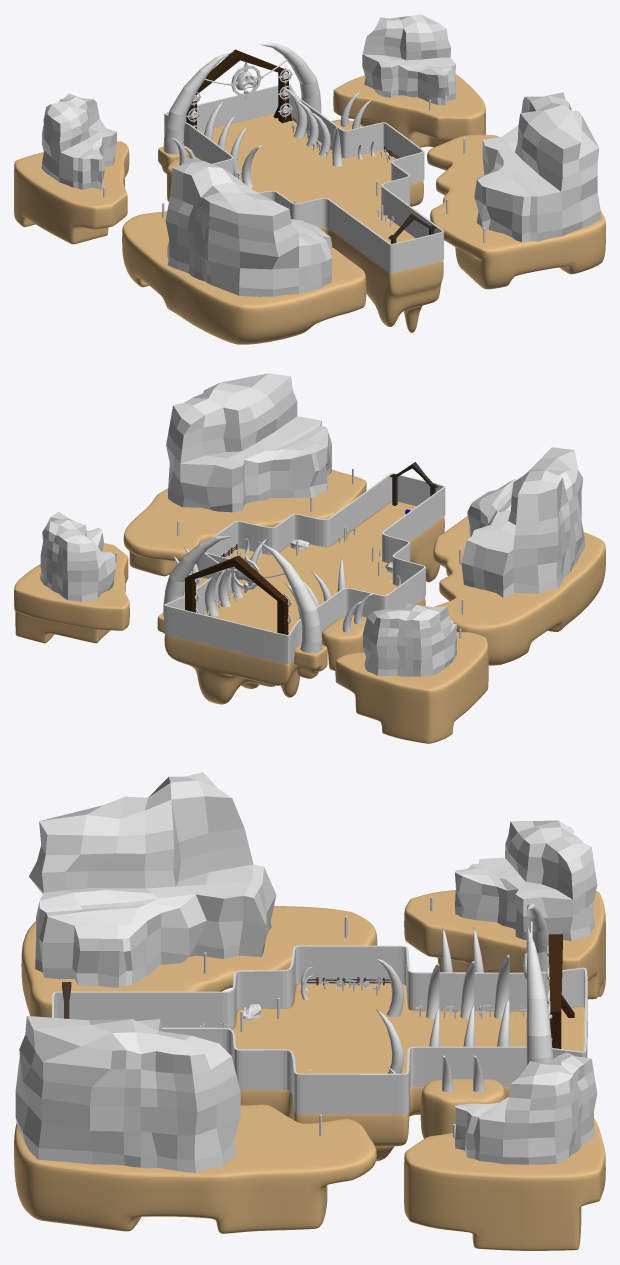
Rendered from Nivel4 Sala1.fbx.
3 views of the same model, one above another, from view 1: azimuth 30°, elevation 25°; view 2: azimuth 150°, elevation 25°; view 3: azimuth 270°, elevation 25° (orthographic). The views are drawn at different scales.
Parts seen in each view (by area): view 1: Roca.058, Base 4-1, Roca.059, Base 4-1.001, Cube.188, Cube.187, Cube.190, Roca.057, Cube.189, Roca.056, Hueso Grande.090, JEFE Arco (+3 smaller); view 2: Roca.059, Base 4-1.001, Base 4-1, Roca.058, Cube.188, Cube.190, Cube.187, Cube.189, Roca.056, Roca.057, Hueso Grande.090, JEFE Arco (+2 smaller); view 3: Roca.058, Roca.059, Base 4-1.001, Cube.187, Base 4-1, Cube.189, Roca.056, Roca.057, Cube.188, Cube.190, Hueso Grande.090, Tierra (+5 smaller).
Boxes of the visible parts, <box> form: Roca.058: <box>165,158,331,296</box>; Base 4-1: <box>200,113,443,332</box>; Roca.059: <box>474,92,601,242</box>; Base 4-1.001: <box>164,83,443,272</box>; Cube.188: <box>122,211,366,344</box>; Cube.187: <box>427,134,605,289</box>; Cube.190: <box>14,141,129,244</box>; Roca.057: <box>362,14,455,105</box>; Cube.189: <box>333,74,485,147</box>; Roca.056: <box>41,93,116,189</box>; Hueso Grande.090: <box>163,43,321,154</box>; JEFE Arco: <box>186,49,292,128</box>; Roca.059: <box>166,373,331,512</box>; Base 4-1.001: <box>164,473,445,663</box>; Base 4-1: <box>164,501,444,704</box>; Roca.058: <box>461,447,585,597</box>; Cube.188: <box>433,516,605,665</box>; Cube.190: <box>335,632,488,743</box>; Cube.187: <box>123,469,366,576</box>; Cube.189: <box>14,543,129,643</box>; Roca.056: <box>363,603,456,676</box>; Roca.057: <box>40,511,115,601</box>; Hueso Grande.090: <box>163,536,321,652</box>; JEFE Arco: <box>185,555,288,634</box>; Roca.058: <box>29,772,276,987</box>; Roca.059: <box>15,1016,240,1172</box>; Base 4-1.001: <box>52,945,587,1113</box>; Cube.187: <box>14,1104,376,1233</box>; Base 4-1: <box>231,983,584,1161</box>; Cube.189: <box>404,1118,605,1250</box>; Roca.056: <box>455,820,597,940</box>; Roca.057: <box>455,1052,597,1164</box>; Cube.188: <box>21,905,377,1017</box>; Cube.190: <box>404,890,605,999</box>; Hueso Grande.090: <box>526,903,553,1065</box>; Tierra: <box>420,1079,505,1138</box>.
Size of the model in its own units: 26706 by 11116 by 22882.
